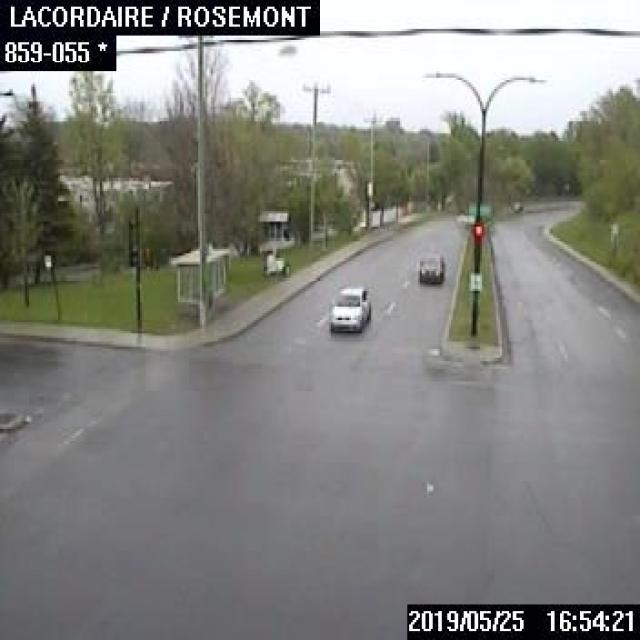vehicle: (328, 286, 368, 331), (418, 252, 442, 281), (511, 199, 522, 211)
